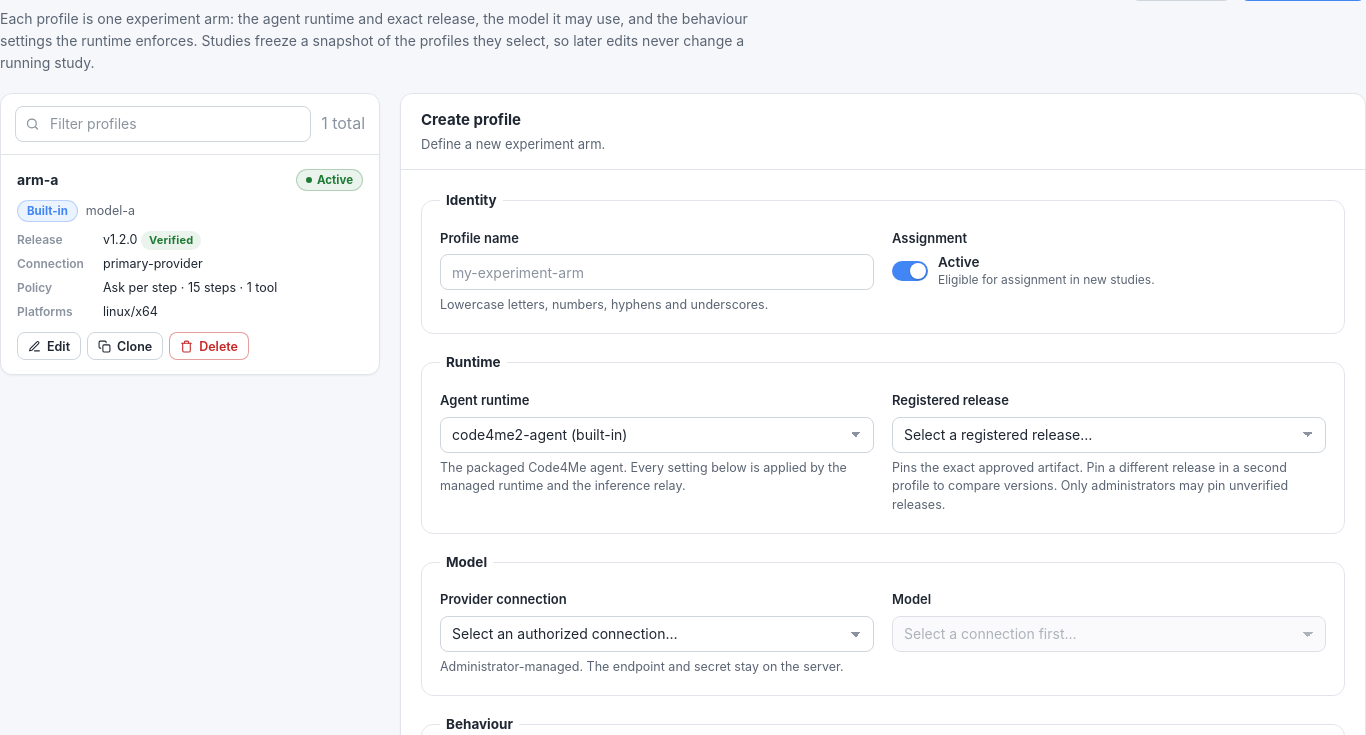
Test case: bulk tool controls wait for the current runtime's list
Expected: the text "arm-a" is shown, [17,169,58,192]
Select "Goose (bring your own agent)" in the dropdown labelled "Agent runtime": [657, 435] box [440,417,874,453]
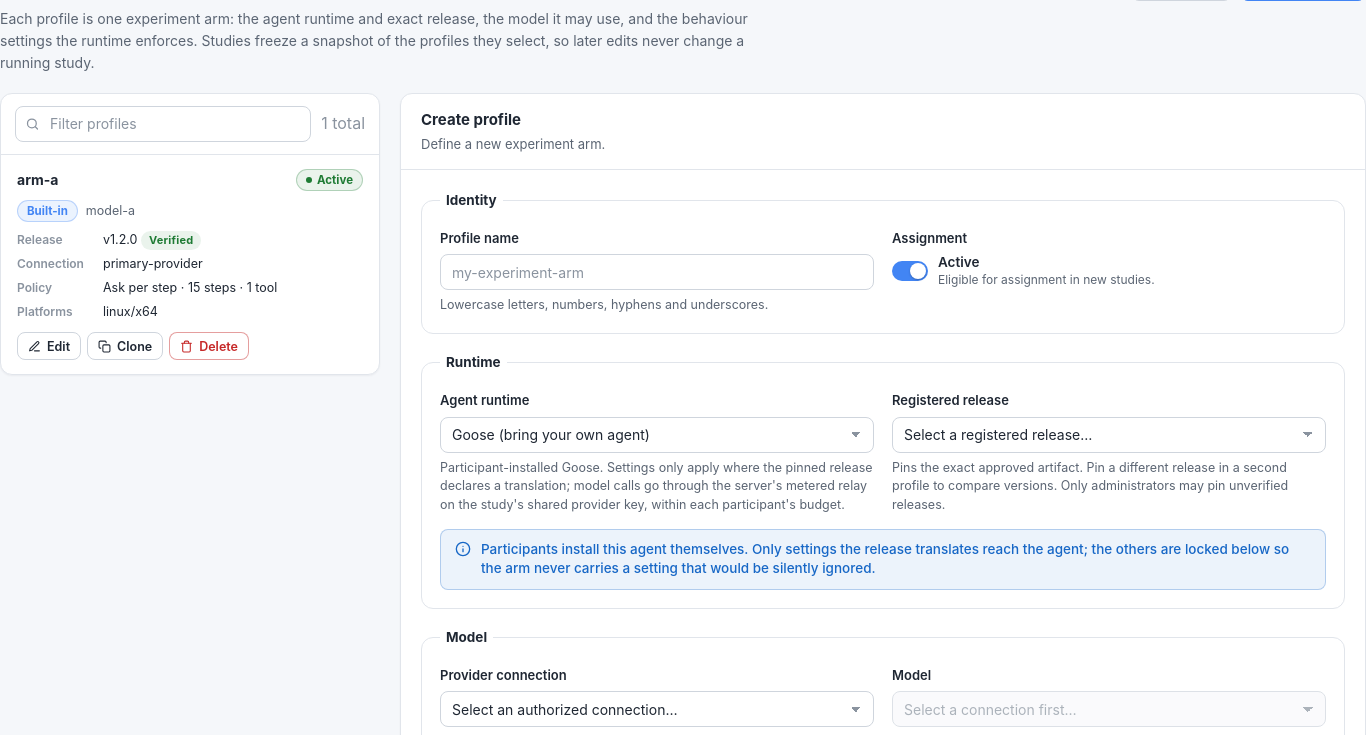
# While the built-in list loads, Goose's list must not drive "Select all".
Click the button "Edit": [49, 346] box [17,332,81,360]
(page scrolled)
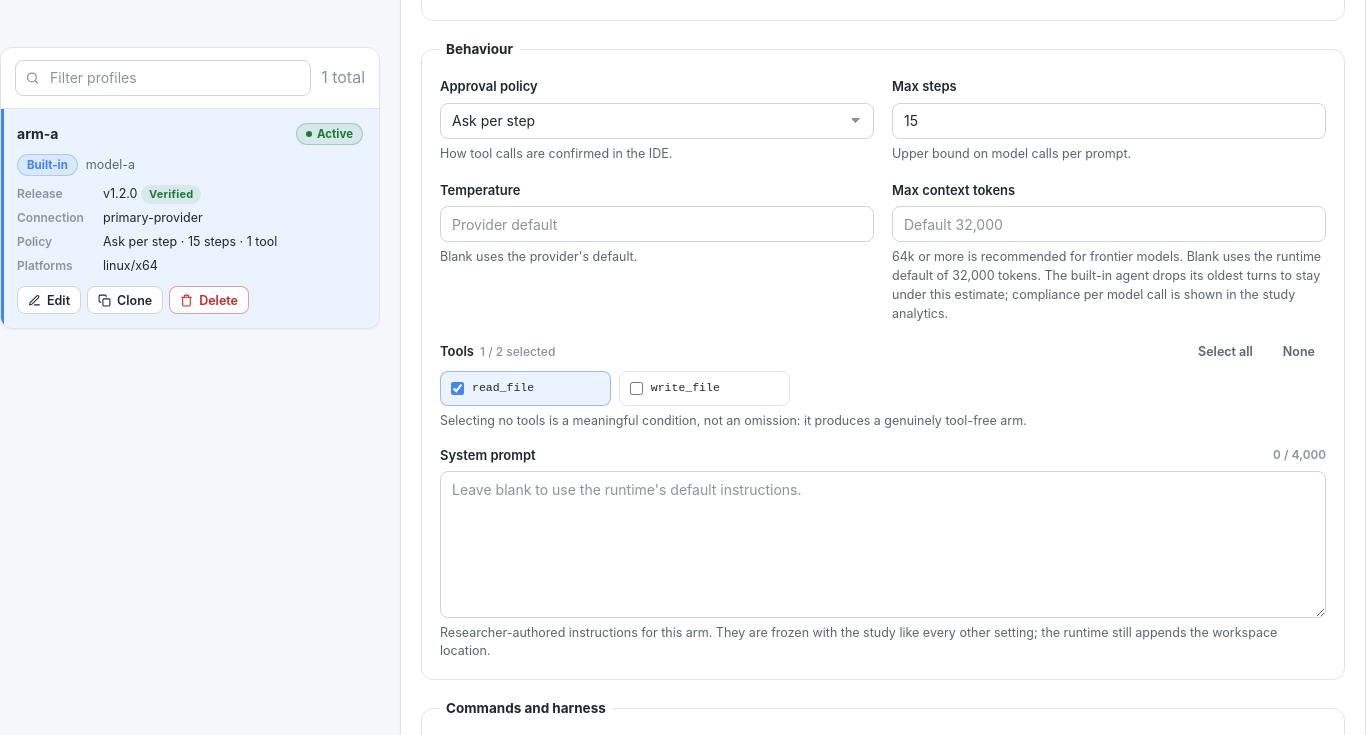
Expected: the button "Select all" is shown, [1187,338,1264,366]
Now the text "1 / 2 selected" is shown, box [480,342,555,361]
